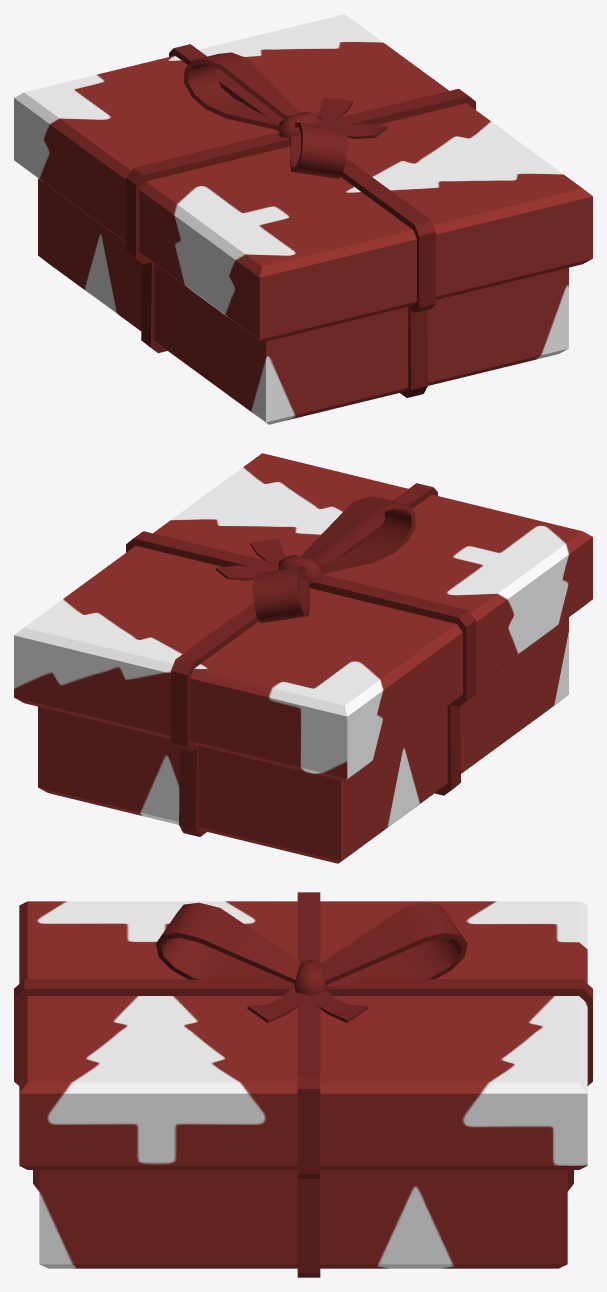
The model's file is PresentBox_Small_01.fbx.
3 views of the same model, one above another, from view 1: azimuth 30°, elevation 25°; view 2: azimuth 150°, elevation 25°; view 3: azimuth 270°, elevation 25° (orthographic). The views are drawn at different scales.
Visible parts, largest first — view 1: PresentBox_Small_01_Top, PresentBox_Small_01; view 2: PresentBox_Small_01_Top, PresentBox_Small_01; view 3: PresentBox_Small_01_Top, PresentBox_Small_01.
Boxes of the visible parts, box(x1,y1,x2,y2) form: PresentBox_Small_01_Top: box(14, 14, 592, 342); PresentBox_Small_01: box(38, 178, 568, 424); PresentBox_Small_01_Top: box(14, 453, 592, 781); PresentBox_Small_01: box(38, 617, 568, 863); PresentBox_Small_01_Top: box(14, 892, 592, 1178); PresentBox_Small_01: box(33, 1170, 573, 1277).
Size of the model in its own units: 0.2231 by 0.1439 by 0.2843.
